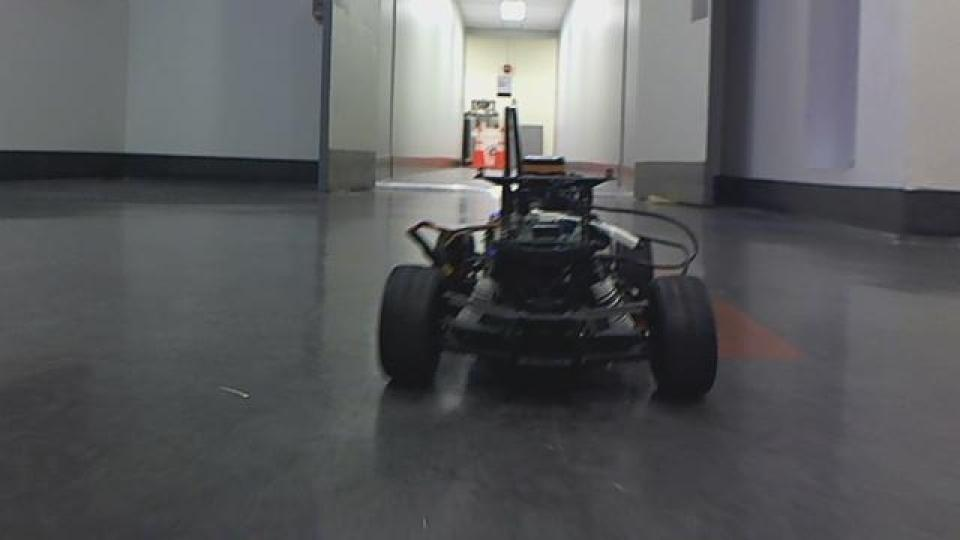car: (371, 100, 723, 410)
